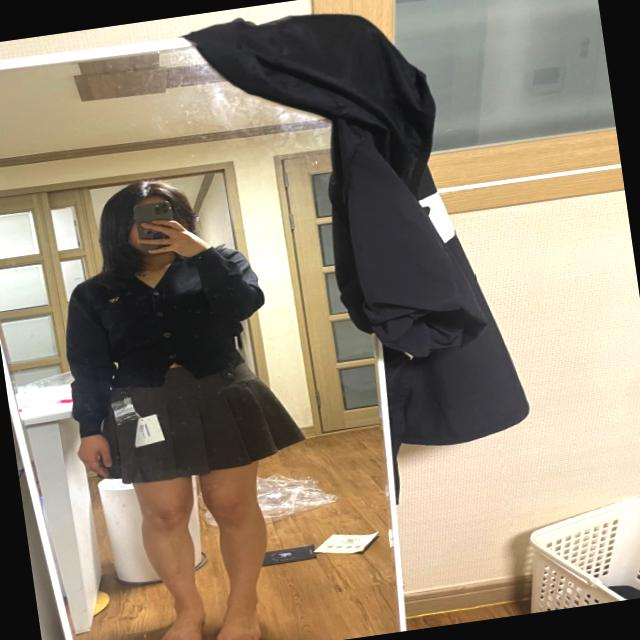cardigan: (50, 240, 280, 442)
skirt: (84, 350, 310, 488)
